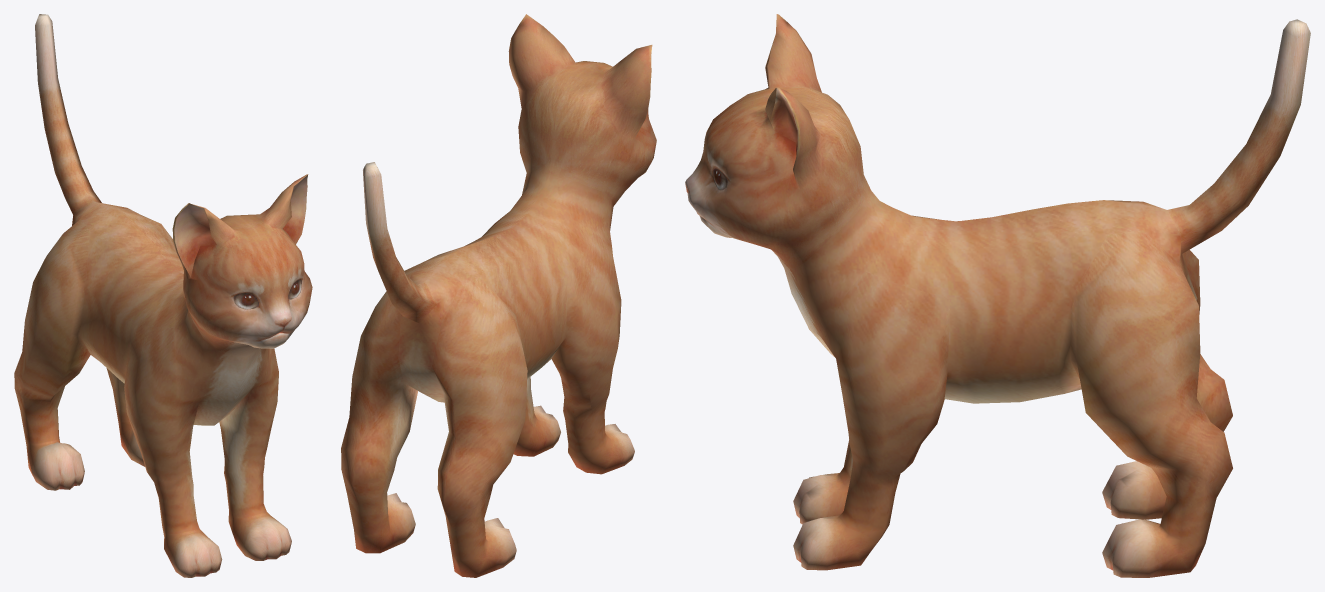
The model's file is Trent.dae.
The picture shows the model from 3 angles, left to right: view 1: azimuth 30°, elevation 25°; view 2: azimuth 150°, elevation 25°; view 3: azimuth 270°, elevation 25°; orthographic projection. The views are drawn at different scales.
Visible parts, largest first — view 1: cat; view 2: cat; view 3: cat.
Part boxes in pixels (bbox=[...]): cat: bbox=[14, 14, 312, 577]; cat: bbox=[341, 14, 656, 577]; cat: bbox=[685, 14, 1310, 577].
Bounding box in the file's own units: 0.0397 × 0.0981 × 0.1077.
Materials: 1 (1 with a texture image).
